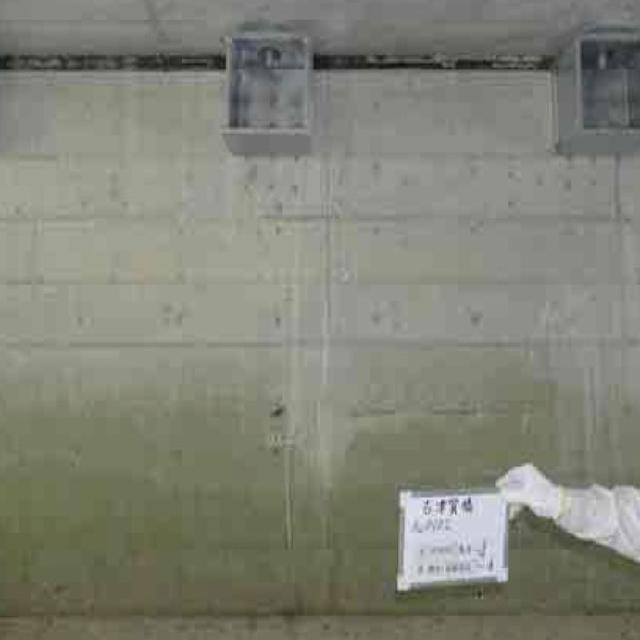freelime: (273, 243, 353, 508), (543, 273, 624, 460)
